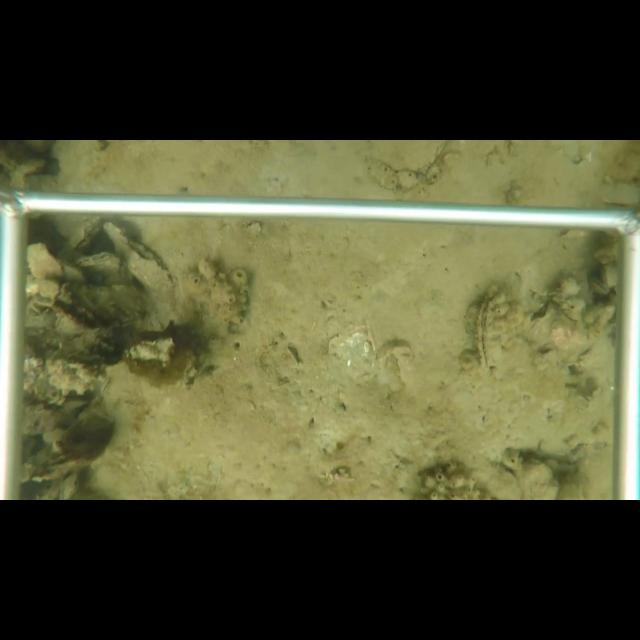Oyster-Closed: (102, 221, 178, 315), (363, 141, 452, 178), (474, 286, 507, 381), (25, 241, 65, 280), (65, 217, 101, 254), (72, 253, 123, 279), (587, 275, 610, 296), (98, 374, 117, 398), (601, 265, 613, 292)
